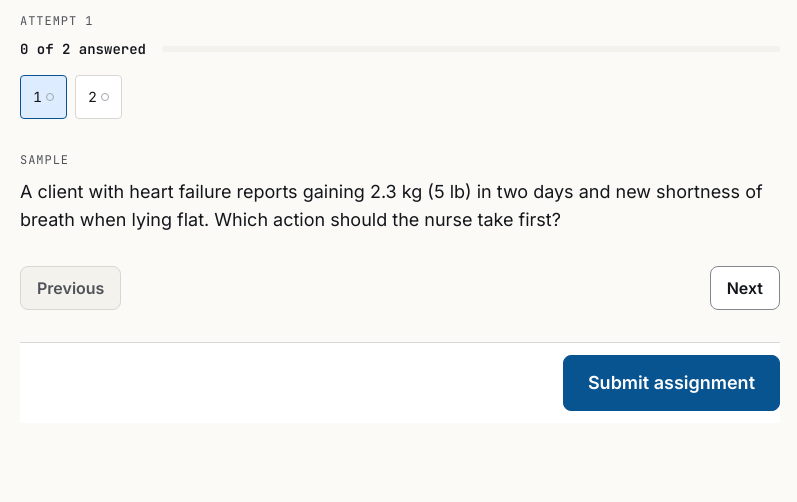
Test: AttemptPlayer (#208) › shows the server's reason when the submit is refused, and lets the student go back
The image size is (797, 502).
Click the button "Submit assignment".
click(671, 383)  # box [563, 355, 780, 411]
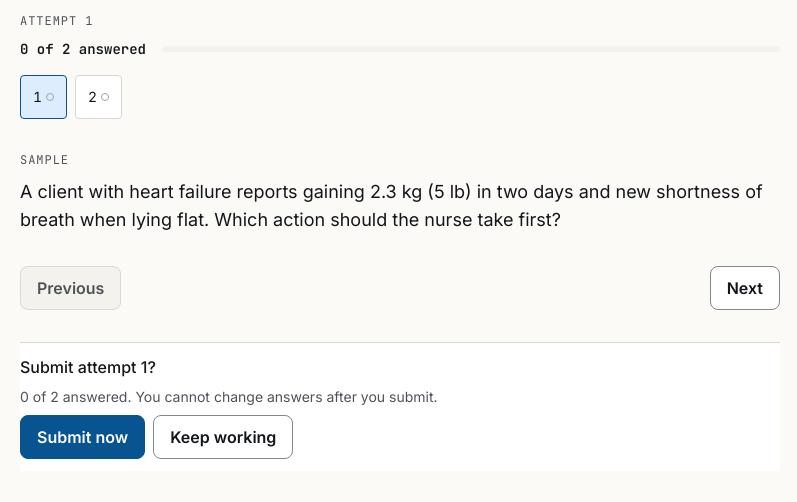
Click the button "Submit now".
click(83, 437)  # box [20, 415, 145, 459]
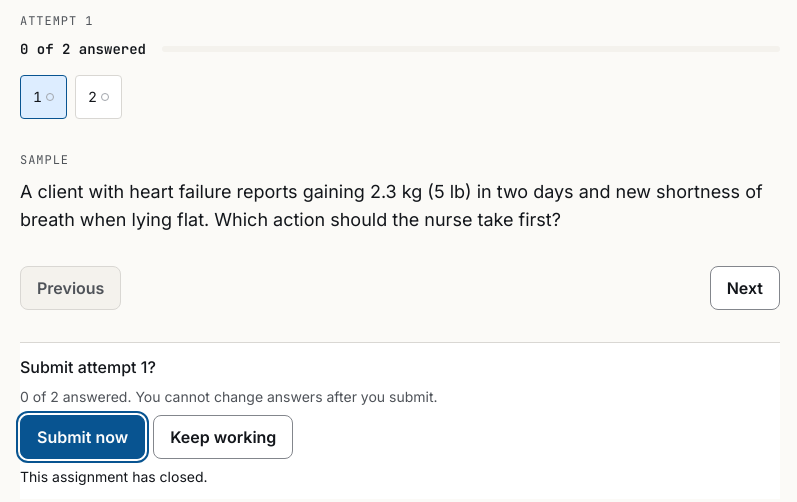
Result: the message reads "This assignment has closed." at [20, 468, 208, 485]
Click the button "Keep working".
click(223, 437)  # box [153, 415, 293, 459]
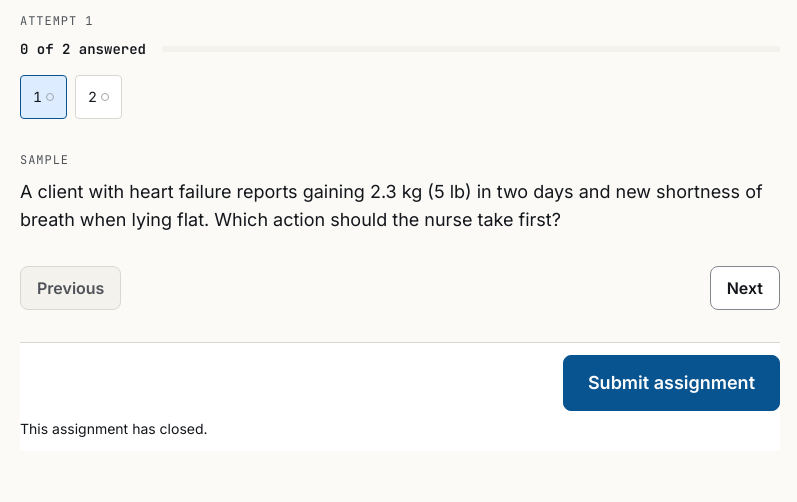
Result: the button "Submit assignment" is shown at [563, 355, 780, 411]
